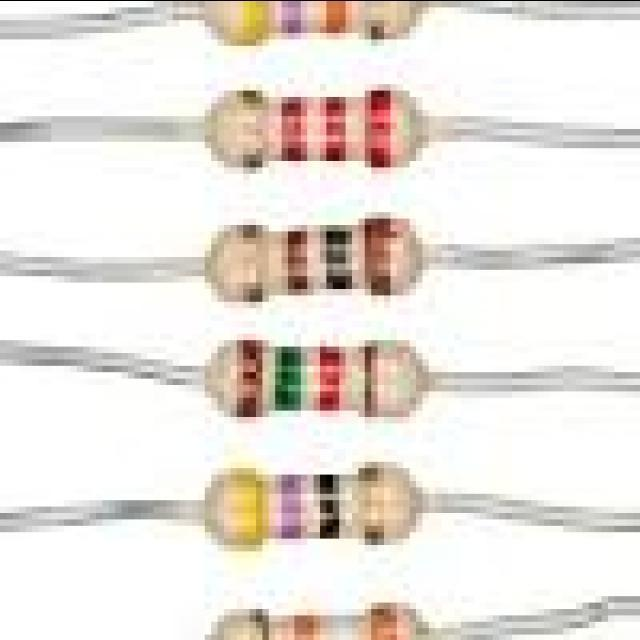Resistor: (205, 216, 423, 302), (204, 463, 421, 548), (204, 87, 423, 170), (204, 339, 425, 417), (197, 0, 423, 45), (206, 603, 439, 639)
black: (316, 475, 344, 535), (326, 233, 350, 288)
brown: (369, 220, 393, 293), (240, 343, 260, 420), (286, 229, 308, 292)
gold: (237, 82, 265, 170), (359, 468, 387, 544), (242, 222, 263, 300)
green: (276, 348, 302, 412)
purple: (279, 470, 301, 540)
red: (321, 93, 349, 164), (281, 93, 304, 163), (324, 344, 339, 413), (373, 92, 385, 168)
